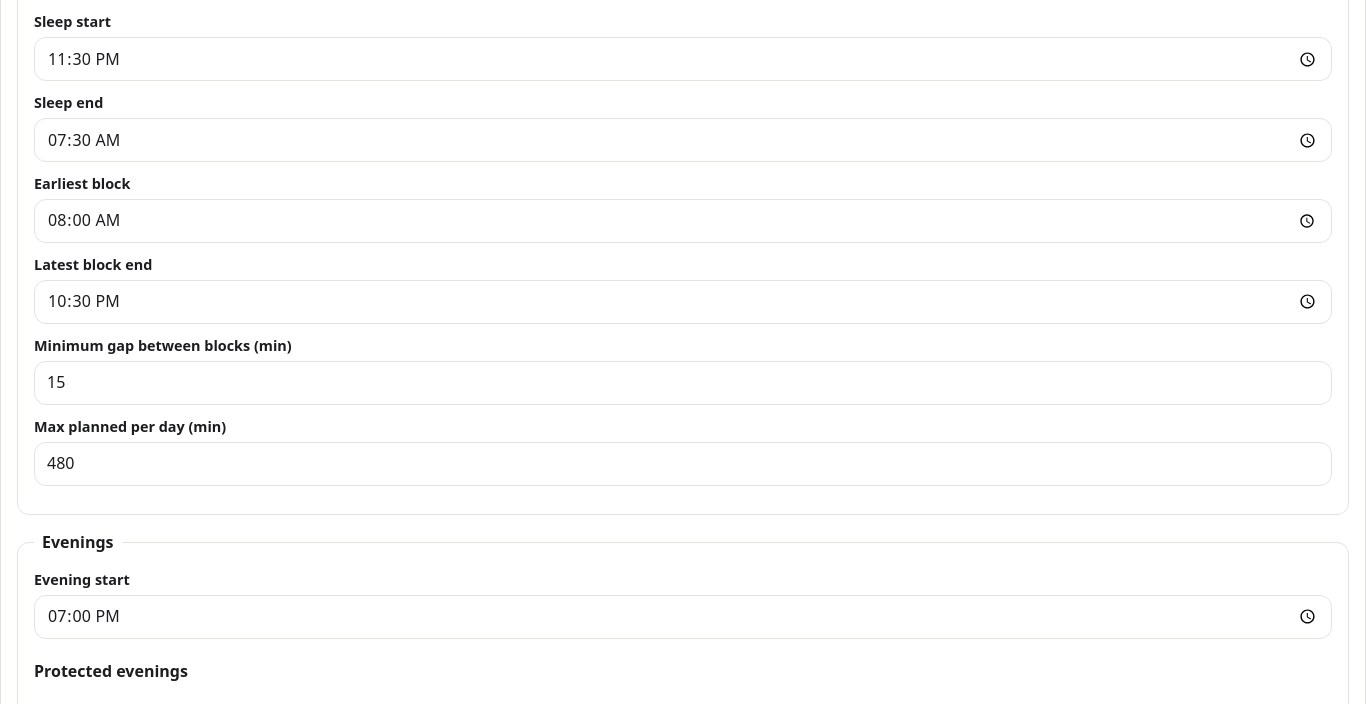
Day and evenings settings › a cleared number field is sent as null and errors for other keys show in a fallback list
(page scrolled)
Step 1. Clear the number field labelled "Minimum gap between blocks (min)" → {"x": 683, "y": 383}, box [34,361,1332,405]
(page scrolled)
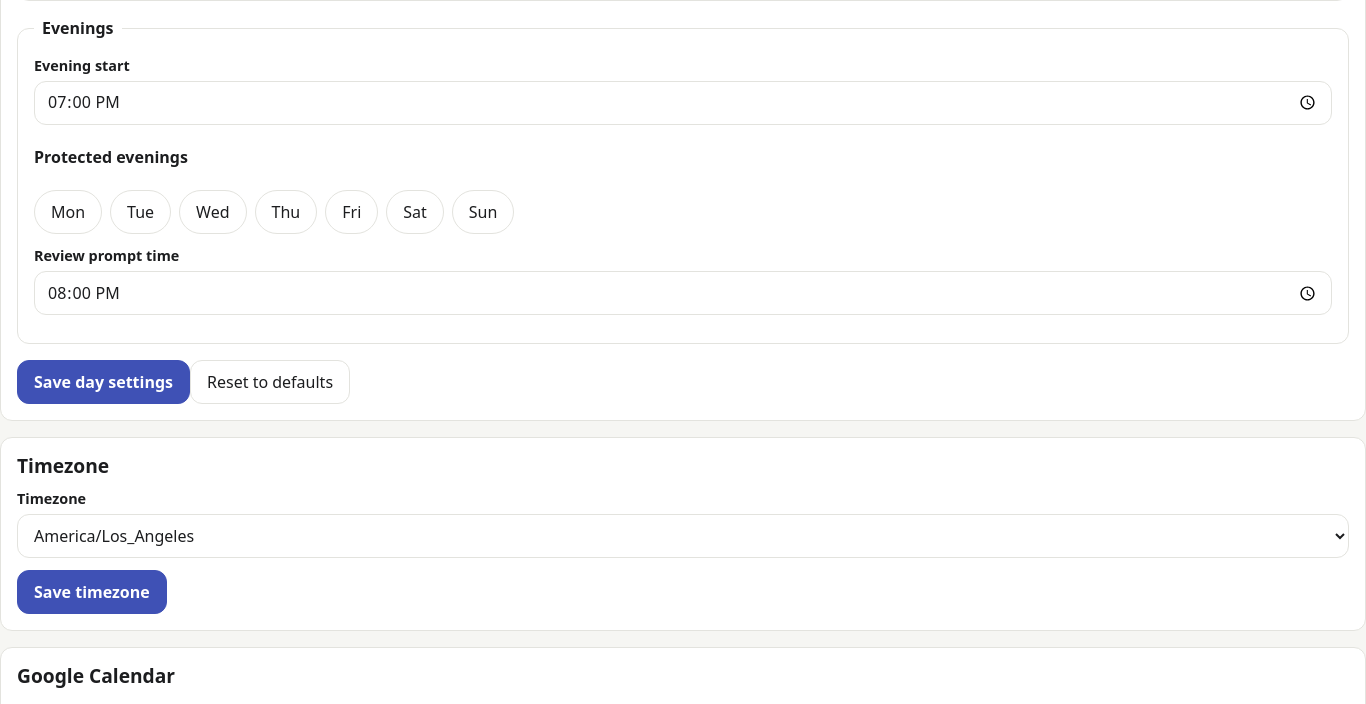
Step 2. Click the button "Save day settings" → {"x": 104, "y": 382}, box [17,360,190,404]
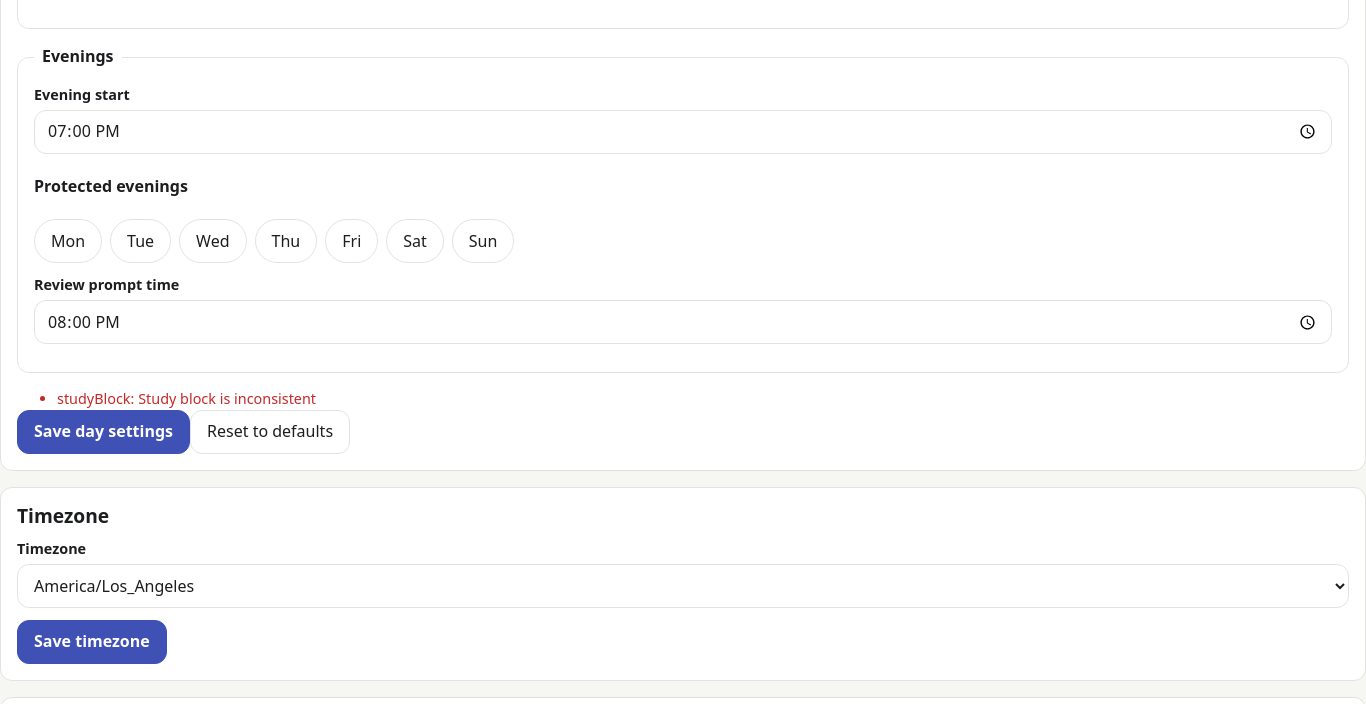
Expected: the message named "Other problems" reads "studyBlock: Study block is inconsistent", [57,389,316,408]
